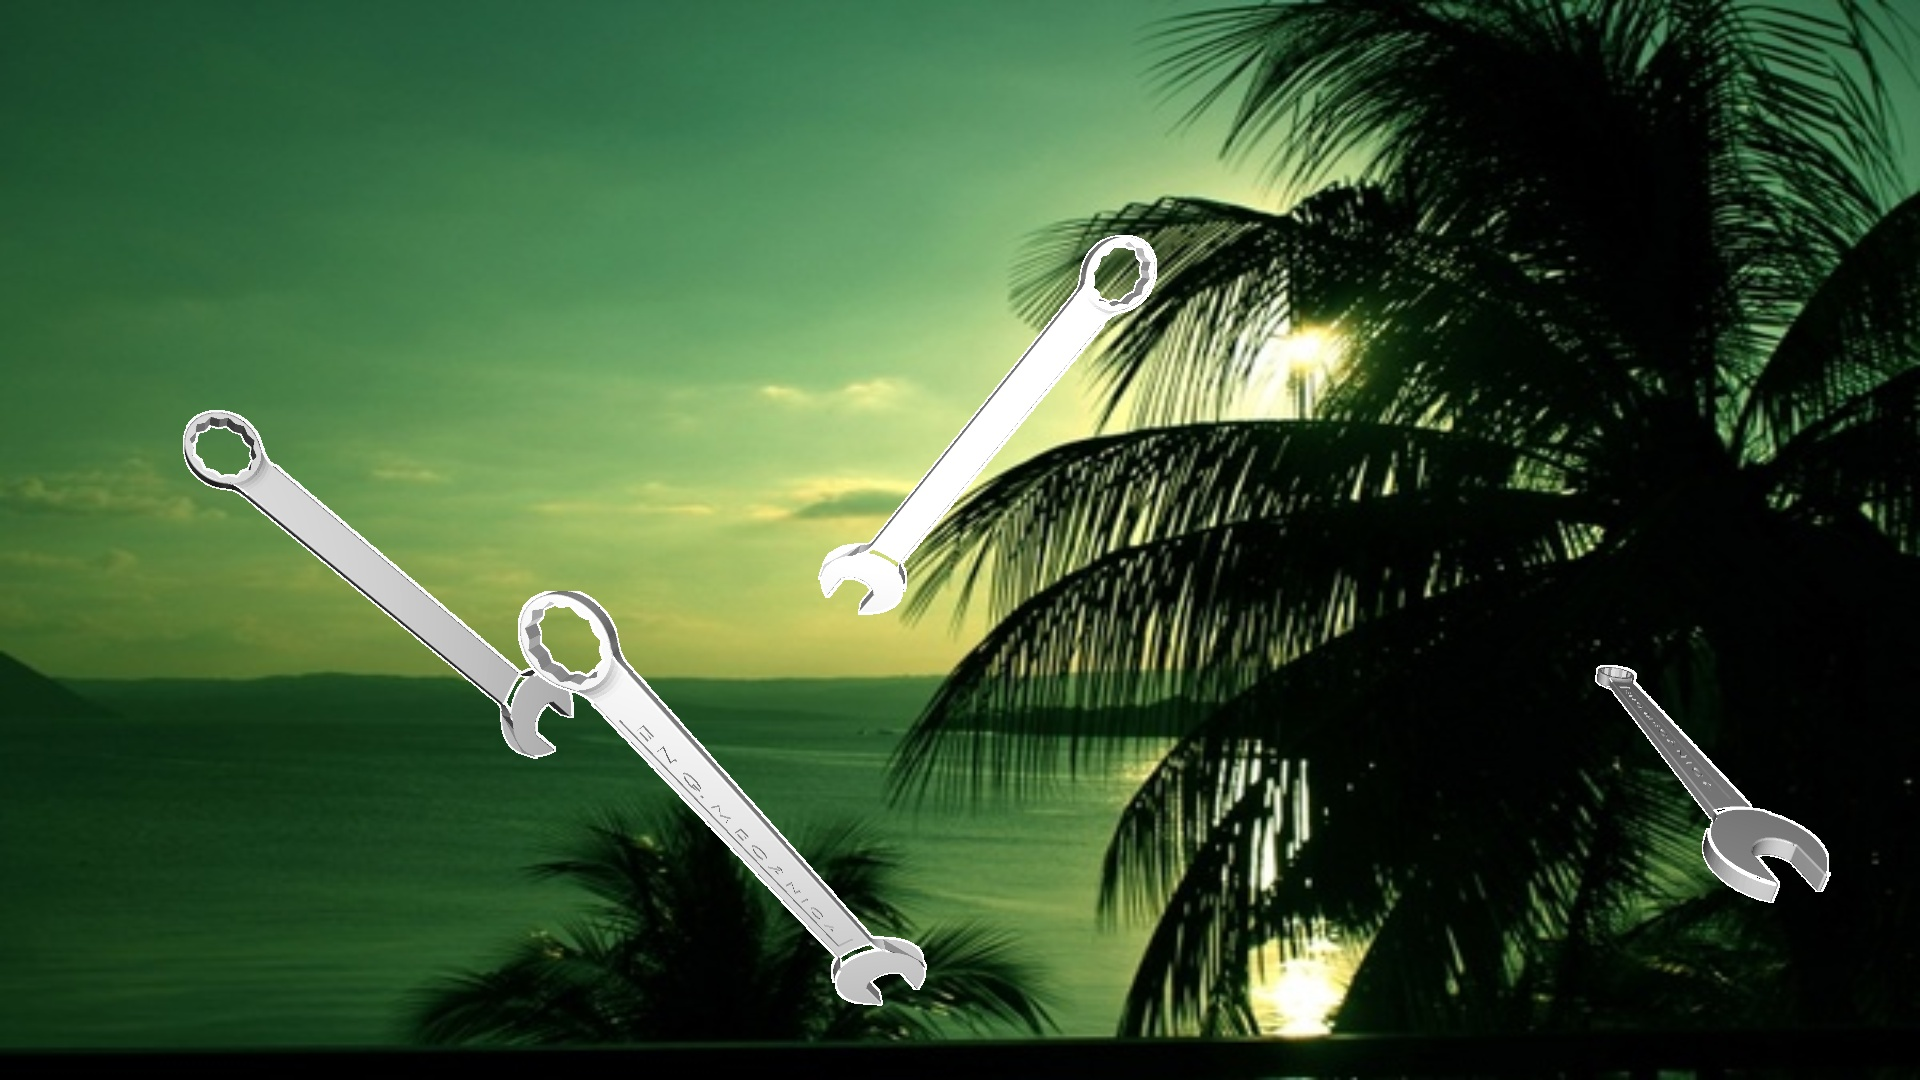Mixed Key: (518, 591, 926, 1005), (183, 410, 574, 758), (818, 235, 1156, 615), (1596, 665, 1830, 902)
